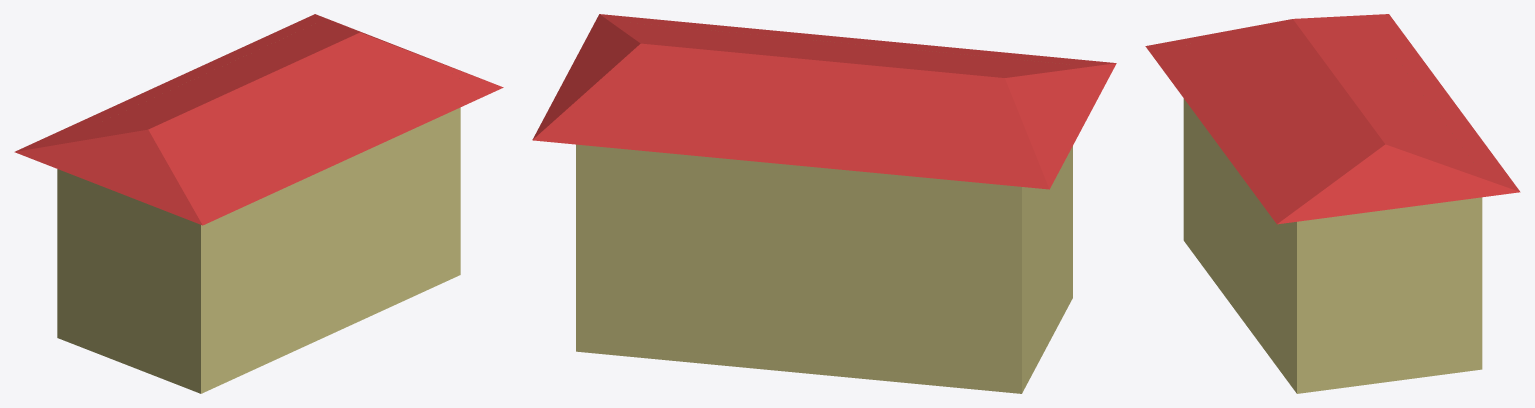
3 renders of one model, left to right at view 1: azimuth 30°, elevation 25°; view 2: azimuth 150°, elevation 25°; view 3: azimuth 270°, elevation 25°, orthographic. The views are drawn at different scales.
Bounding box in the file's own units: 12.22 × 9.22 × 6.03.
